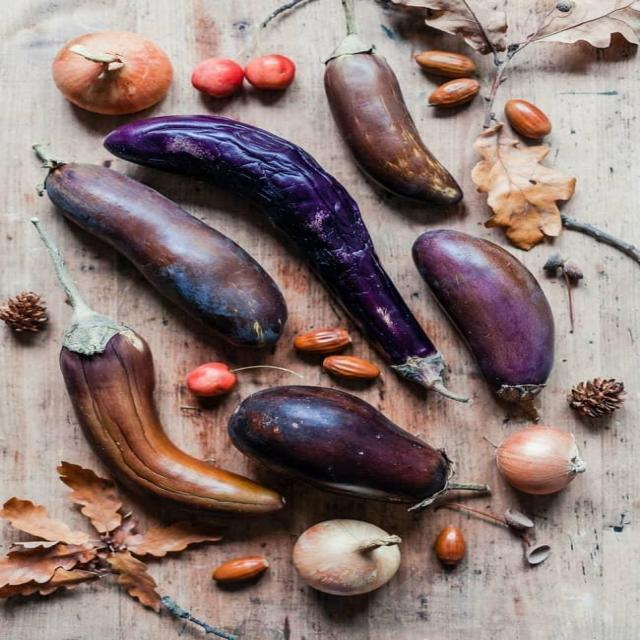eggplant: (100, 114, 467, 402), (39, 231, 287, 518), (33, 144, 288, 349), (226, 385, 486, 503), (322, 1, 464, 205), (411, 229, 554, 419)
